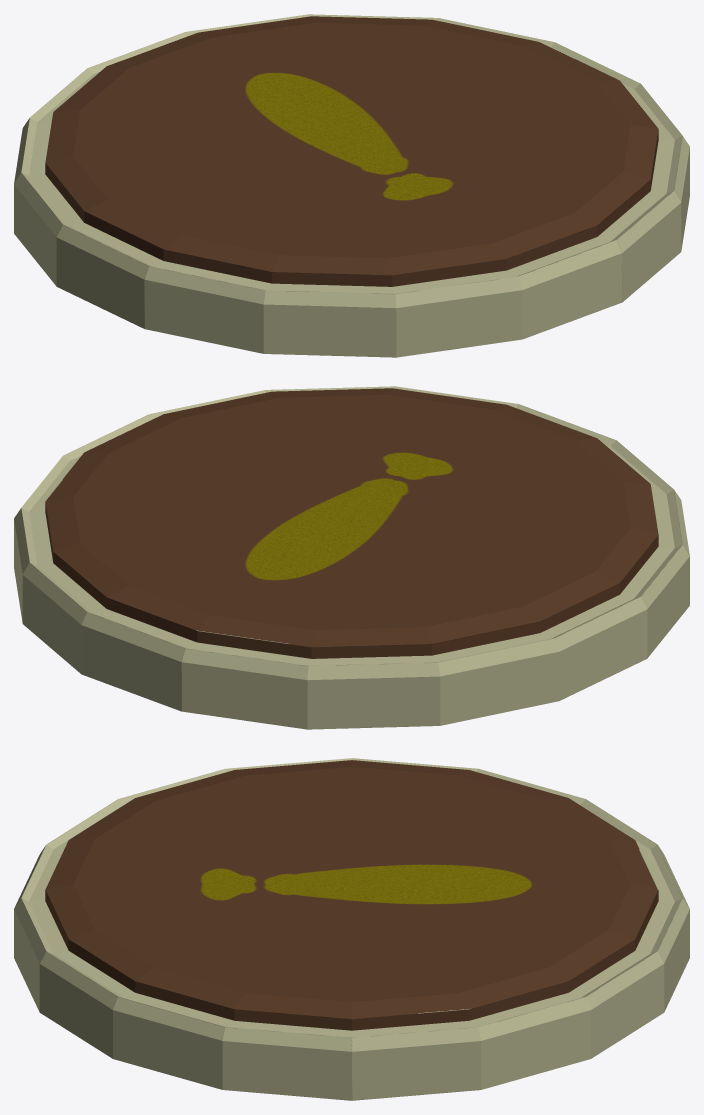
Rendered from Button.fbx.
3 renders of one model, top to bottom at view 1: azimuth 30°, elevation 25°; view 2: azimuth 150°, elevation 25°; view 3: azimuth 270°, elevation 25°, orthographic.
Visible parts, largest first — view 1: Button; view 2: Button; view 3: Button.
Boxes of the visible parts, x1,y1,x2,y2 form: Button: [14, 14, 689, 357]; Button: [14, 386, 689, 729]; Button: [14, 758, 689, 1100].
Bounding box in the file's own units: 99.77 × 11.98 × 99.77.
